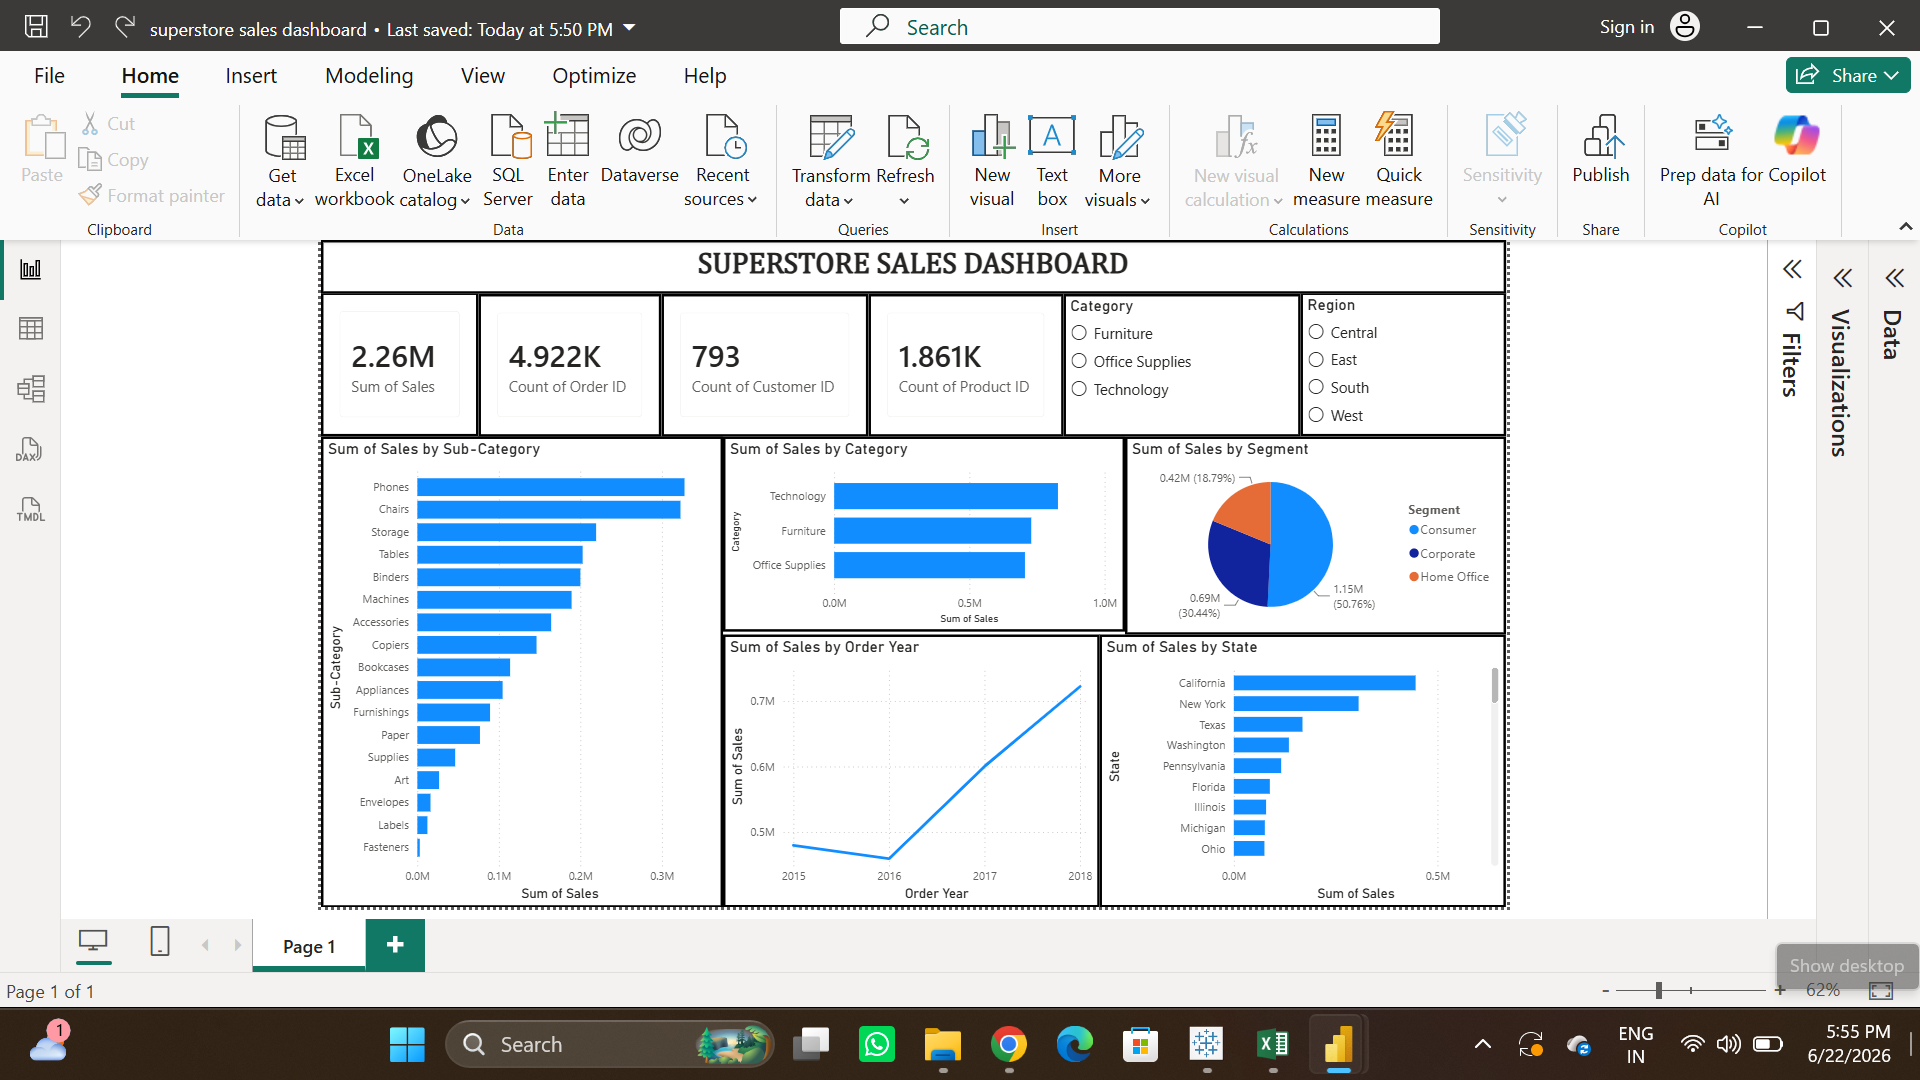

The dashboard page shown, as its layout file describes it:
{"tool":"powerbi","page":{"name":"Page 1","canvas":[1280,720],"ordinal":0},"visuals":[{"type":"clusteredBarChart","fields":{"Category":["train_cleaned (1).Category"],"Y":["Sum(train_cleaned (1).Sales)"]},"box":[434,212.1,434,210.5],"z":0},{"type":"cardVisual","fields":{"Data":["Sum(train_cleaned (1).Sales)"]},"box":[0,56.7,170,155.4],"z":1000},{"type":"cardVisual","fields":{"Data":["Count(train_cleaned (1).Order ID)"]},"box":[170,58.3,197.5,153.8],"z":2000},{"type":"cardVisual","fields":{"Data":["Count(train_cleaned (1).Customer ID)"]},"box":[367.6,58.3,223.5,153.8],"z":3000},{"type":"cardVisual","fields":{"Data":["Count(train_cleaned (1).Product ID)"]},"box":[591,58.3,210.5,153.8],"z":4000},{"type":"listSlicer","fields":{"Values":["train_cleaned (1).Category"]},"box":[801.5,58.3,255.8,153.8],"z":5000},{"type":"listSlicer","fields":{"Values":["train_cleaned (1).Region"]},"box":[1057.4,56.7,221.8,155.4],"z":6000},{"type":"clusteredBarChart","fields":{"Category":["train_cleaned (1).Sub-Category"],"Y":["Sum(train_cleaned (1).Sales)"]},"box":[0,212.1,434,508.4],"z":7000},{"type":"lineChart","fields":{"Category":["train_cleaned (1).Order Year"],"Y":["Sum(train_cleaned (1).Sales)"]},"box":[434,425.9,406.4,294.7],"z":8000},{"type":"pieChart","fields":{"Category":["train_cleaned (1).Segment"],"Y":["Sum(train_cleaned (1).Sales)"]},"box":[867.9,212.1,411.3,213.7],"z":9000},{"type":"clusteredBarChart","fields":{"Category":["train_cleaned (1).State"],"Y":["Sum(train_cleaned (1).Sales)"]},"box":[840.4,425.9,438.8,294.7],"z":10000},{"type":"textbox","box":[0,0,1279.2,58.3],"z":11000}]}

Visuals, with their boxes on the page's 1280x720 design canvas (x1, y1, x2, y2). These are canvas units, not pixel positions in the 1920x1080 screenshot, which may show the page scaled, cropped or inside an application window:
clusteredBarChart - train_cleaned (1).Category x Sum(train_cleaned (1).Sales): x1=434 y1=212 x2=868 y2=423
cardVisual - Sum(train_cleaned (1).Sales): x1=0 y1=57 x2=170 y2=212
cardVisual - Count(train_cleaned (1).Order ID): x1=170 y1=58 x2=368 y2=212
cardVisual - Count(train_cleaned (1).Customer ID): x1=368 y1=58 x2=591 y2=212
cardVisual - Count(train_cleaned (1).Product ID): x1=591 y1=58 x2=802 y2=212
listSlicer - train_cleaned (1).Category: x1=802 y1=58 x2=1057 y2=212
listSlicer - train_cleaned (1).Region: x1=1057 y1=57 x2=1279 y2=212
clusteredBarChart - train_cleaned (1).Sub-Category x Sum(train_cleaned (1).Sales): x1=0 y1=212 x2=434 y2=720
lineChart - train_cleaned (1).Order Year x Sum(train_cleaned (1).Sales): x1=434 y1=426 x2=840 y2=721
pieChart - train_cleaned (1).Segment x Sum(train_cleaned (1).Sales): x1=868 y1=212 x2=1279 y2=426
clusteredBarChart - train_cleaned (1).State x Sum(train_cleaned (1).Sales): x1=840 y1=426 x2=1279 y2=721
textbox: x1=0 y1=0 x2=1279 y2=58
